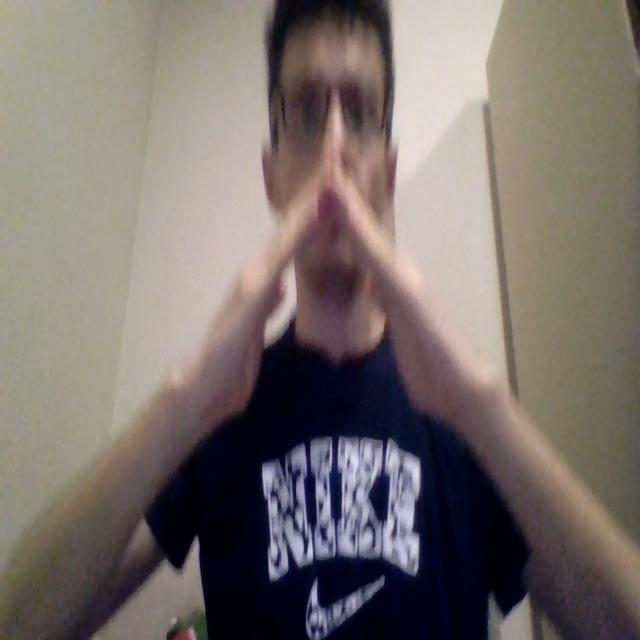house: (175, 165, 462, 420)
